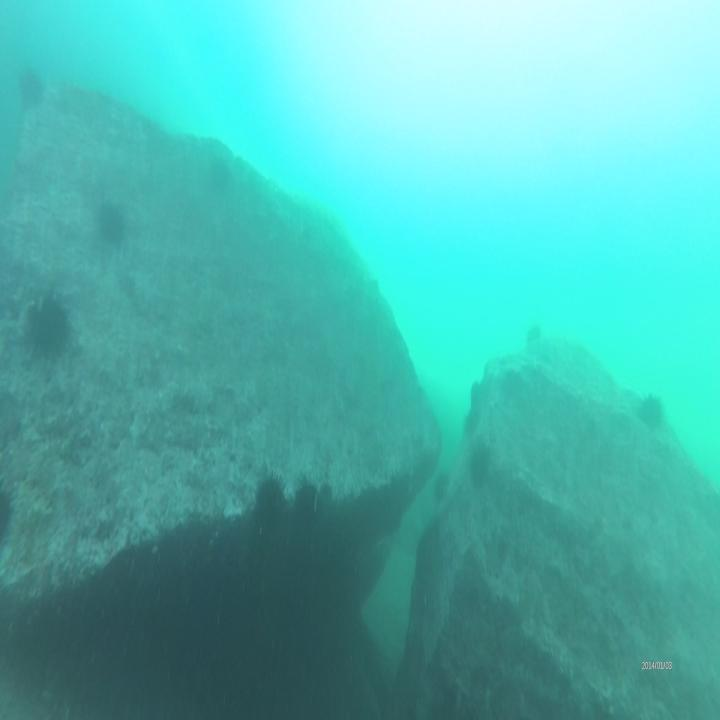echinus: (24, 284, 78, 366), (253, 468, 287, 534), (465, 432, 496, 488), (12, 62, 48, 110), (98, 192, 128, 247), (294, 466, 318, 531), (635, 390, 665, 435)
